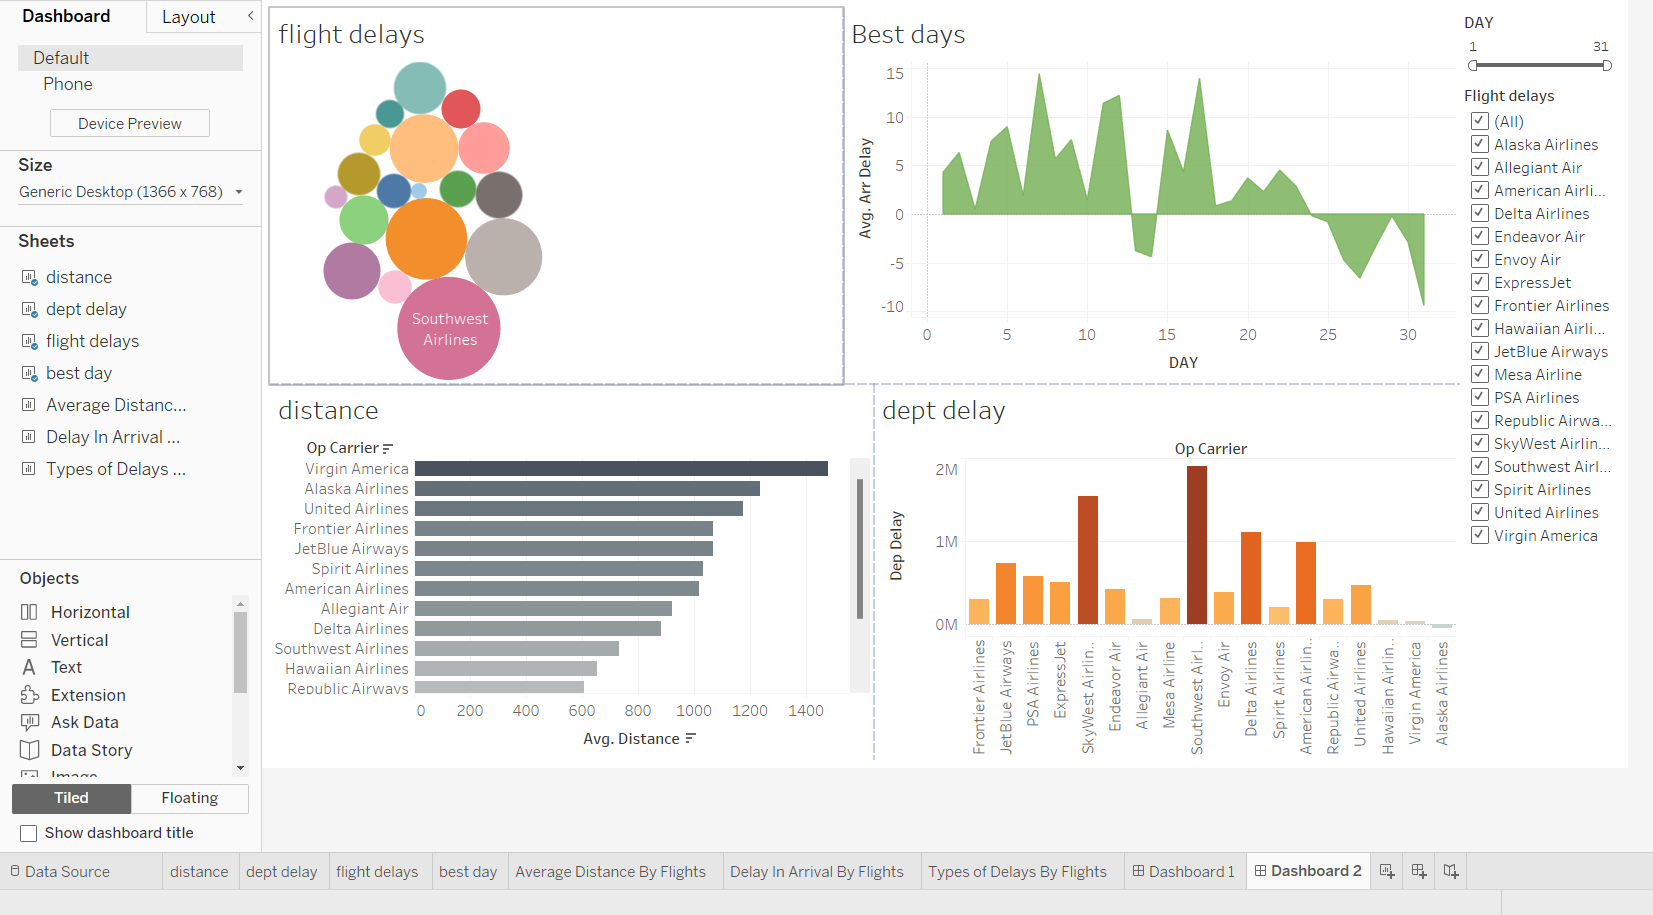

The page's visual inventory and layout, read from the dashboard file:
{"tool":"tableau","page":{"name":"Dashboard 2","canvas":[1366,768],"ordinal":1},"visuals":[{"type":"worksheet","title":"flight delays","mark":"Circle","box":[8,8,573,376]},{"type":"worksheet","title":"best day","mark":"Area","rows":["ARR_DELAY"],"cols":["DAY"],"box":[581,8,617,376]},{"type":"filter","title":"best day","param":"[federated.01ywmqj17ciila1gtuyl40e56065].[none:DAY:qk]","box":[1198,8,160,73]},{"type":"filter","title":"flight delays","param":"[federated.01ywmqj17ciila1gtuyl40e56065].[none:OP_CARRIER:nk]","box":[1198,81,160,473]},{"type":"worksheet","title":"distance","mark":"Automatic","rows":["OP_CARRIER"],"cols":["DISTANCE"],"box":[8,384,604,376]},{"type":"worksheet","title":"dept delay","mark":"Automatic","rows":["DEP_DELAY"],"cols":["OP_CARRIER"],"box":[612,384,586,376]}]}

Visuals, with their boxes on the page's 1366x768 design canvas (x1, y1, x2, y2). These are canvas units, not pixel positions in the 1653x915 screenshot, which may show the page scaled, cropped or inside an application window:
"flight delays" worksheet (Circle marks): 8 8 581 384
"best day" worksheet (Area marks): 581 8 1198 384
"best day" filter: 1198 8 1358 81
"flight delays" filter: 1198 81 1358 554
"distance" worksheet: 8 384 612 760
"dept delay" worksheet: 612 384 1198 760
